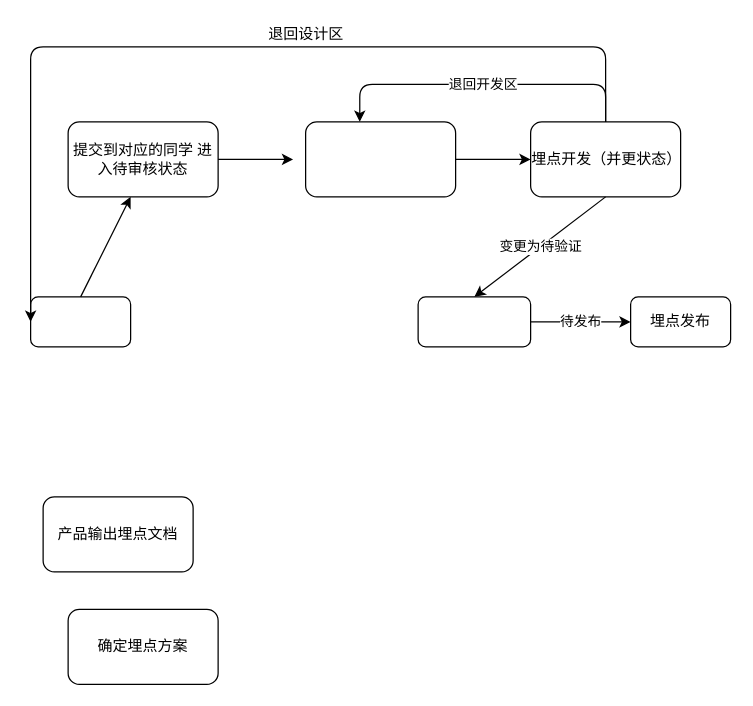
Image size: 753x706. Some labels were removed from this diagram. Here are the shapes that lost their labels. From the top down, the box of each, then its label:
(304, 121, 456, 197): 审核通过，进入待开发状态
(29, 296, 131, 347): 新建开发计划（设计区）
(417, 296, 531, 347): 埋点验证
